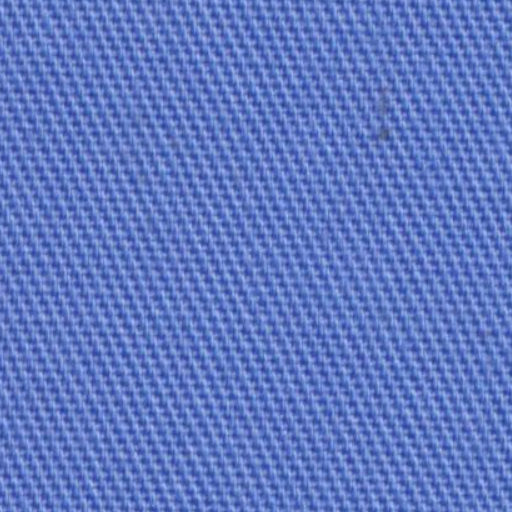WuZi: (364, 64, 414, 156)
